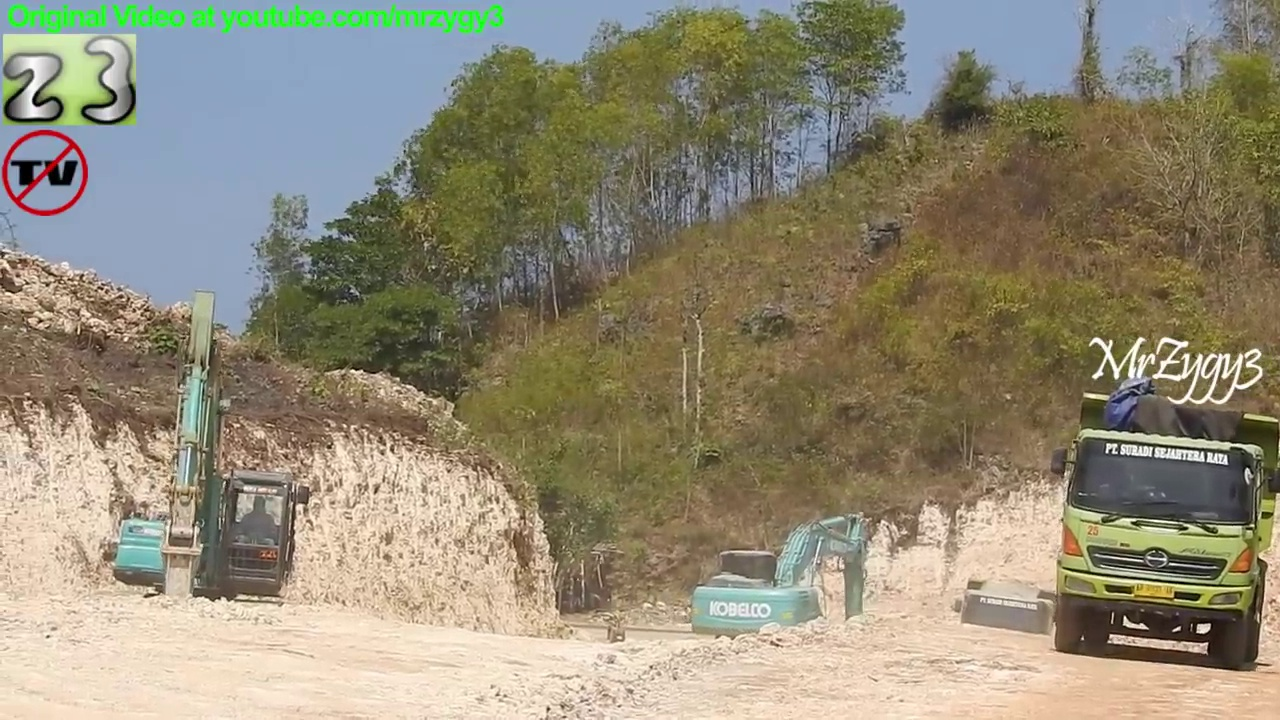excavator: (104, 288, 313, 644), (685, 507, 881, 674)
truck: (1047, 389, 1280, 677), (948, 574, 1068, 686)
